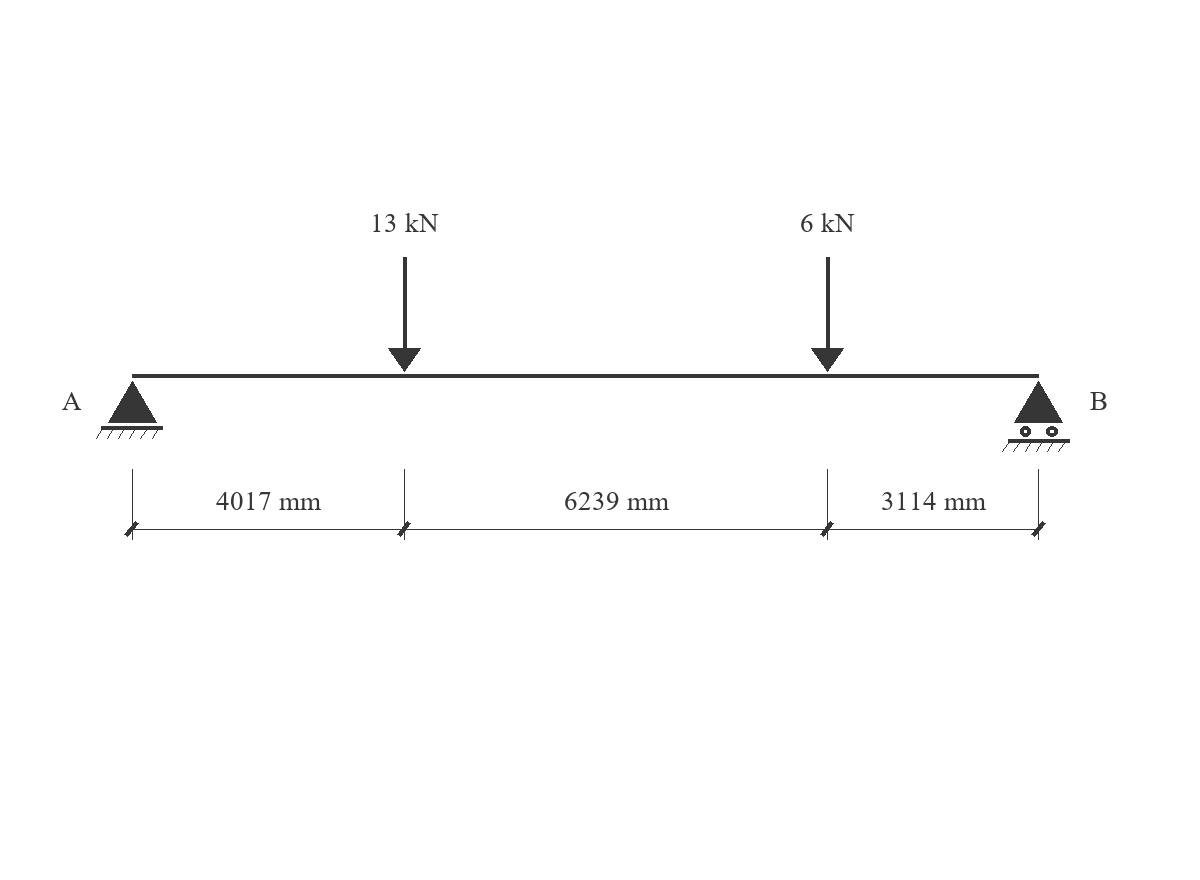pin_support: (96, 381, 163, 439)
point_load: (388, 257, 421, 372), (811, 257, 844, 372)
roller_support: (1002, 381, 1070, 452)
